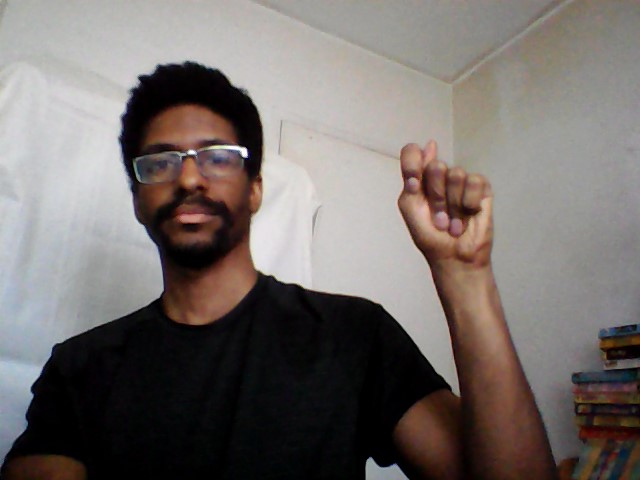t: (391, 136, 499, 267)
